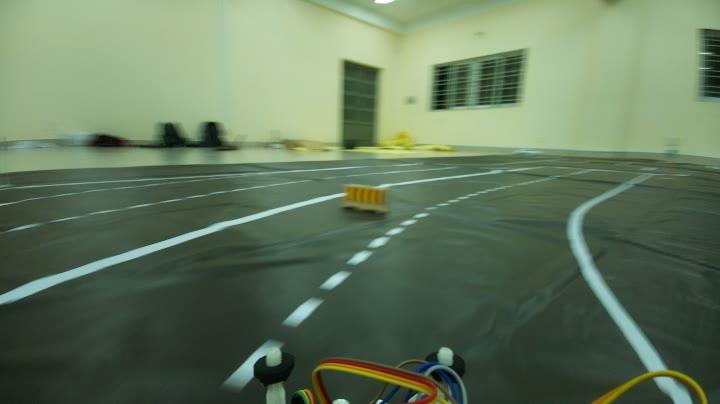roadblock: (335, 175, 395, 212)
